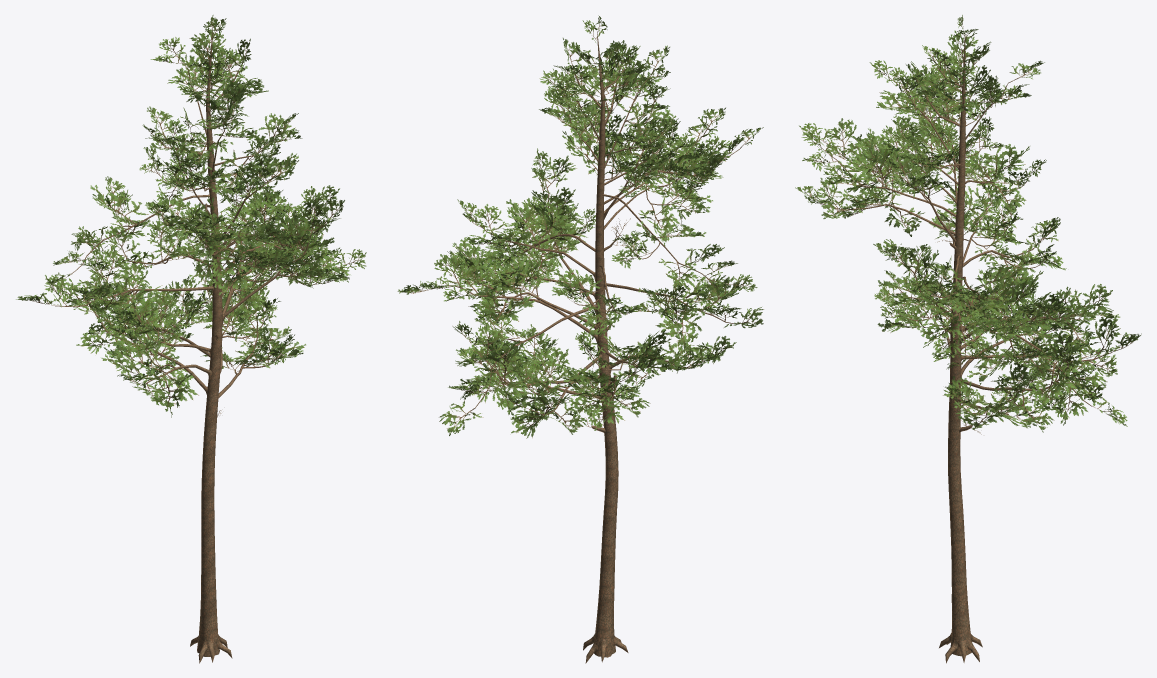
The picture shows the model from 3 angles, left to right: view 1: azimuth 30°, elevation 25°; view 2: azimuth 150°, elevation 25°; view 3: azimuth 270°, elevation 25°; orthographic projection.
Parts seen in each view (by area): view 1: Pine_large_1_LOD0_Clusters_Mat_0; view 2: Pine_large_1_LOD0_Clusters_Mat_0; view 3: Pine_large_1_LOD0_Clusters_Mat_0.
Part boxes in pixels (x1,y1,x2,y2): Pine_large_1_LOD0_Clusters_Mat_0: (16,15,366,663); Pine_large_1_LOD0_Clusters_Mat_0: (397,15,763,663); Pine_large_1_LOD0_Clusters_Mat_0: (795,15,1141,663).
Size of the model in its own units: 17.37 by 31.81 by 15.56.
